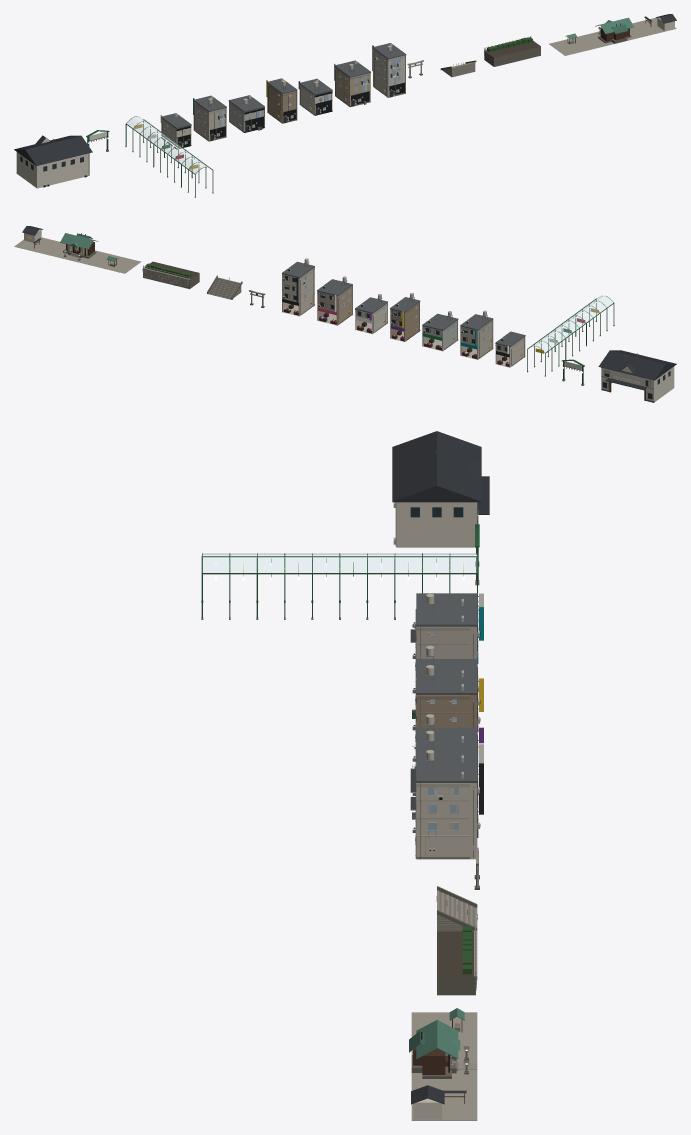
The model's file is aoba.glb.
3 views of the same model, one above another, from view 1: azimuth 30°, elevation 25°; view 2: azimuth 150°, elevation 25°; view 3: azimuth 270°, elevation 25° (orthographic). The views are drawn at different scales.
Visible parts, largest first — view 1: aoba_house_body, aoba_precinct_body, aoba_roof_body, aoba_s6c_body, aoba_s7b_body, aoba_s6a_body, aoba_s5b_body, aoba_wall_body, aoba_s7a_body, aoba_s6b_body, aoba_s5a_body, aoba_stair_body; view 2: aoba_house_body, aoba_precinct_body, aoba_roof_body, aoba_s6c_body, aoba_s7b_body, aoba_s6a_body, aoba_s5b_body, aoba_s7a_body, aoba_wall_body, aoba_s6b_body, aoba_s5a_body, aoba_stair_body; view 3: aoba_house_body, aoba_precinct_body, aoba_roof_body, aoba_s6c_body, aoba_s6a_body, aoba_s5b_body, aoba_wall_body, aoba_stair_body, aoba_s7b_body, aoba_s7a_body, aoba_s6b_body.
Part boxes in pixels (x1=…): aoba_house_body: x1=14, y1=135, x2=92, y2=188; aoba_precinct_body: x1=549, y1=14, x2=676, y2=55; aoba_roof_body: x1=125, y1=116, x2=213, y2=197; aoba_s6c_body: x1=372, y1=43, x2=406, y2=97; aoba_s7b_body: x1=334, y1=60, x2=370, y2=107; aoba_s6a_body: x1=193, y1=95, x2=226, y2=141; aoba_s5b_body: x1=266, y1=78, x2=297, y2=123; aoba_wall_body: x1=484, y1=36, x2=540, y2=66; aoba_s7a_body: x1=228, y1=95, x2=264, y2=132; aoba_s6b_body: x1=299, y1=78, x2=332, y2=115; aoba_s5a_body: x1=161, y1=113, x2=191, y2=149; aoba_stair_body: x1=440, y1=60, x2=476, y2=77; aoba_house_body: x1=598, y1=350, x2=676, y2=402; aoba_precinct_body: x1=14, y1=226, x2=141, y2=273; aoba_roof_body: x1=527, y1=295, x2=614, y2=376; aoba_s6c_body: x1=282, y1=258, x2=314, y2=316; aoba_s7b_body: x1=317, y1=276, x2=352, y2=325; aoba_s6a_body: x1=460, y1=310, x2=493, y2=359; aoba_s5b_body: x1=390, y1=293, x2=420, y2=341; aoba_s7a_body: x1=422, y1=311, x2=458, y2=351; aoba_wall_body: x1=142, y1=261, x2=199, y2=289; aoba_s6b_body: x1=355, y1=294, x2=387, y2=334; aoba_s5a_body: x1=495, y1=331, x2=525, y2=367; aoba_stair_body: x1=207, y1=275, x2=242, y2=299; aoba_house_body: x1=392, y1=431, x2=489, y2=547; aoba_precinct_body: x1=409, y1=1008, x2=477, y2=1120; aoba_roof_body: x1=201, y1=553, x2=478, y2=619; aoba_s6c_body: x1=410, y1=750, x2=483, y2=859; aoba_s6a_body: x1=410, y1=593, x2=483, y2=681; aoba_s5b_body: x1=412, y1=665, x2=483, y2=749; aoba_wall_body: x1=437, y1=925, x2=477, y2=995; aoba_stair_body: x1=436, y1=886, x2=477, y2=931; aoba_s7b_body: x1=410, y1=730, x2=483, y2=821; aoba_s7a_body: x1=412, y1=645, x2=478, y2=718; aoba_s6b_body: x1=412, y1=714, x2=483, y2=766.
Size of the model in its own units: 219 by 15.53 by 42.69.
